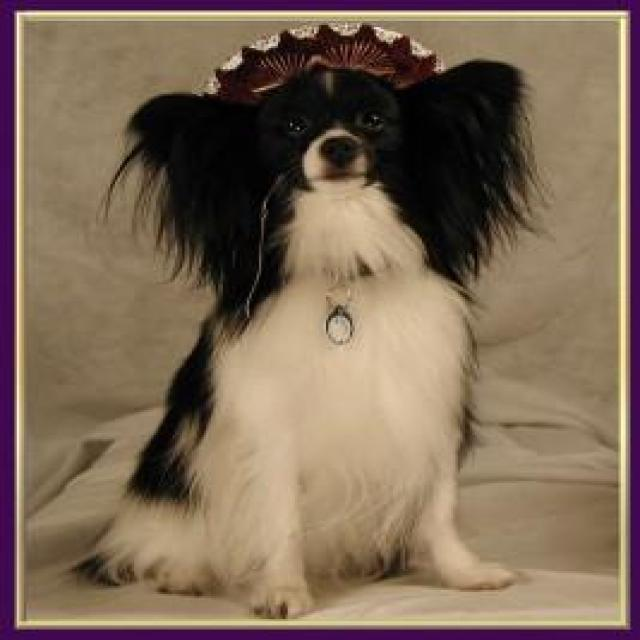papillon: (19, 23, 549, 619)
